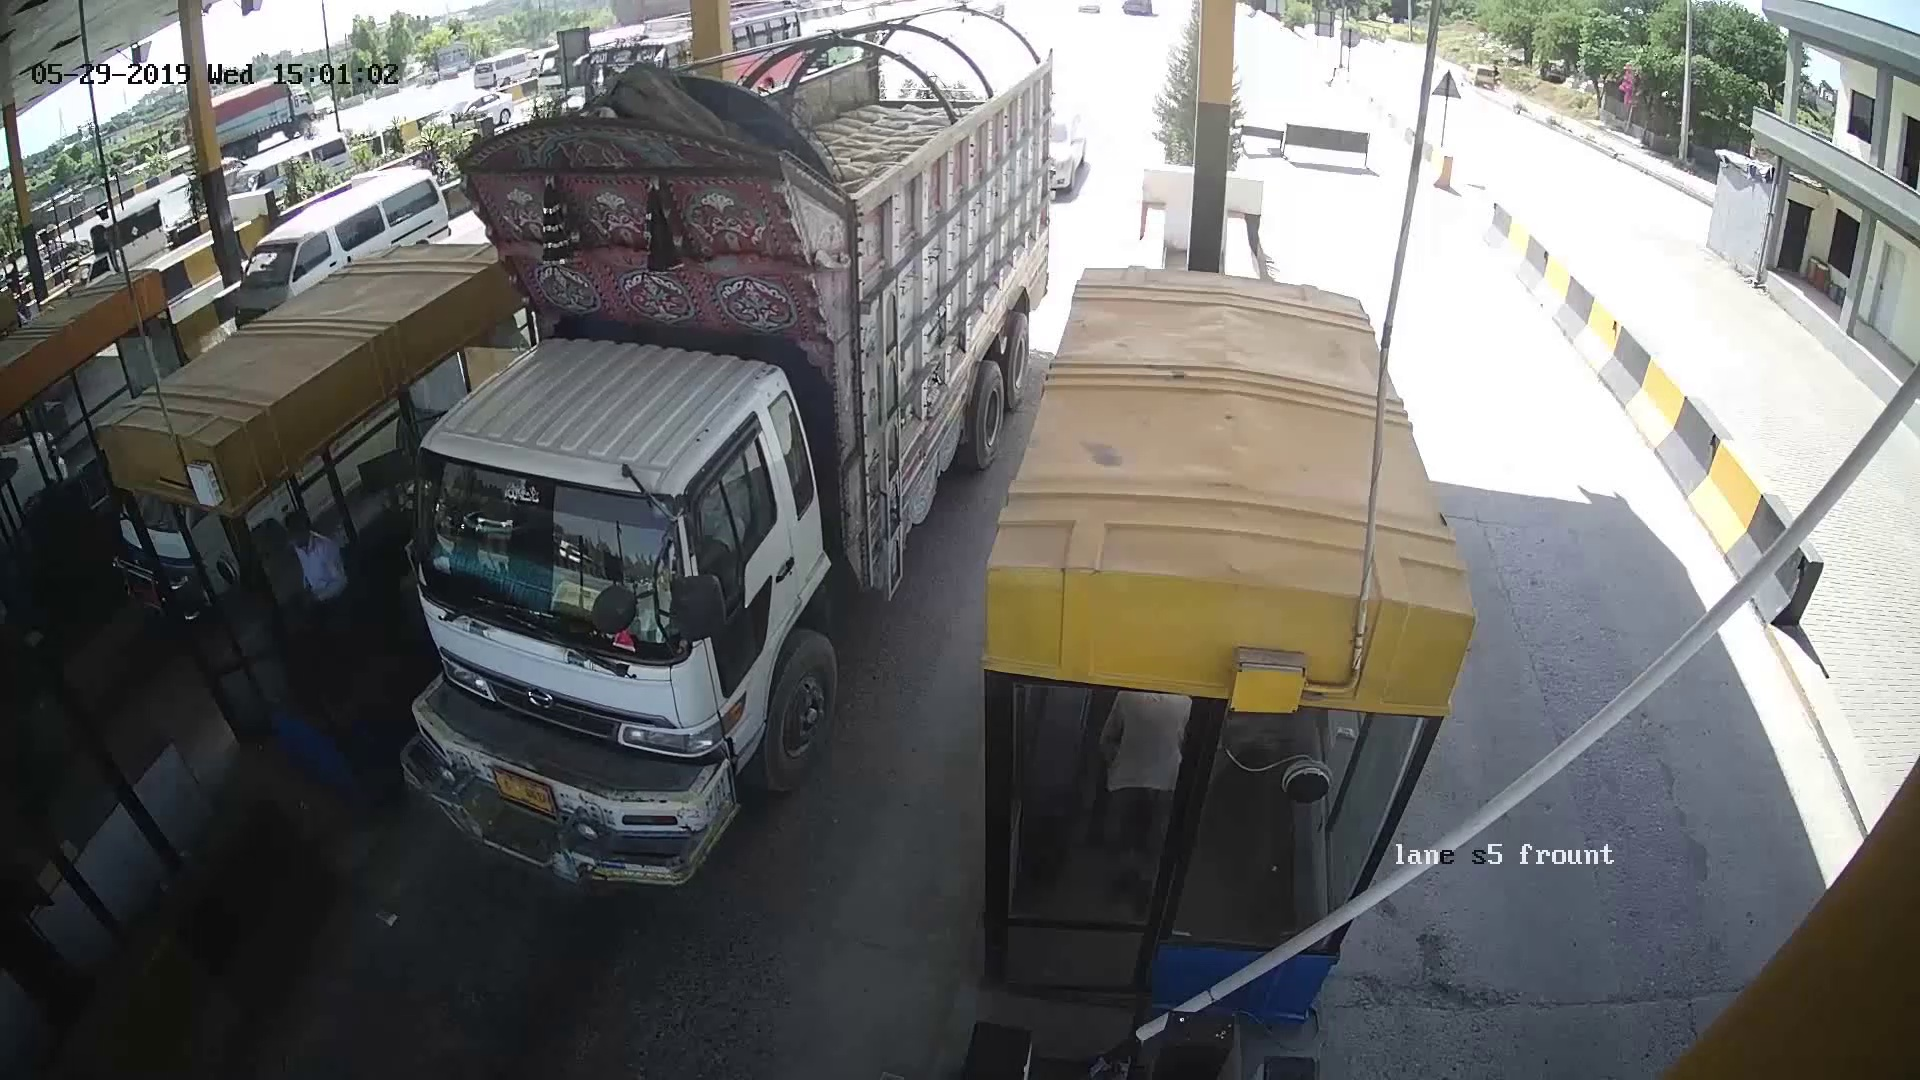truck: (473, 125, 957, 819)
